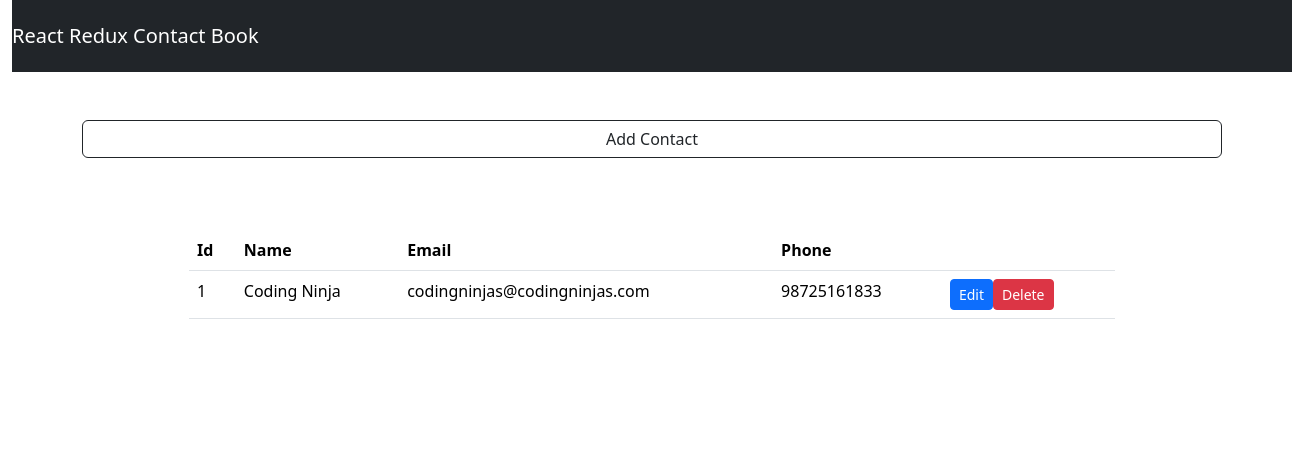
Contact Book App › should navigate to Add Contact page when "Add Contact" button is clicked
Click the link "Add Contact": (652, 139) [82,120,1222,158]
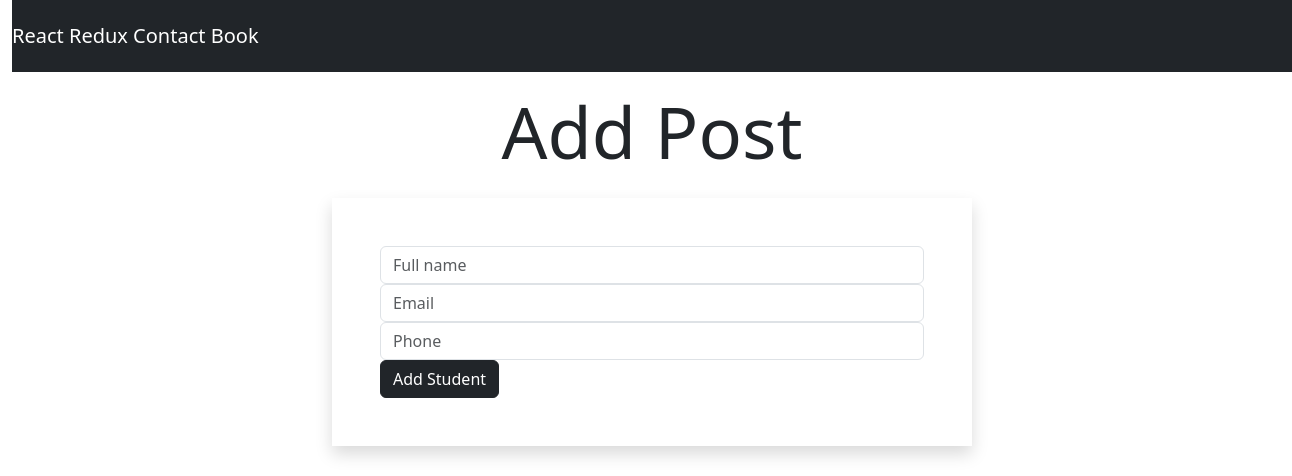
Expected: the heading "Add Post" is shown, [502,82,802,180]
